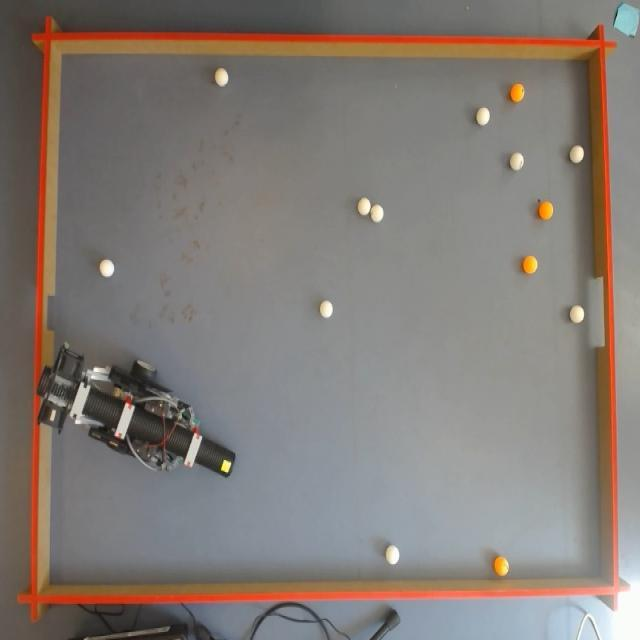orange: (494, 554, 511, 576), (538, 198, 556, 218), (510, 83, 526, 102), (520, 255, 536, 274)
robot: (42, 341, 241, 494)
white: (570, 144, 585, 164), (216, 66, 230, 86), (99, 259, 113, 279), (370, 202, 384, 222), (358, 196, 372, 216), (388, 544, 400, 566), (321, 299, 334, 319), (510, 152, 524, 170), (476, 108, 488, 128), (572, 306, 586, 322)
